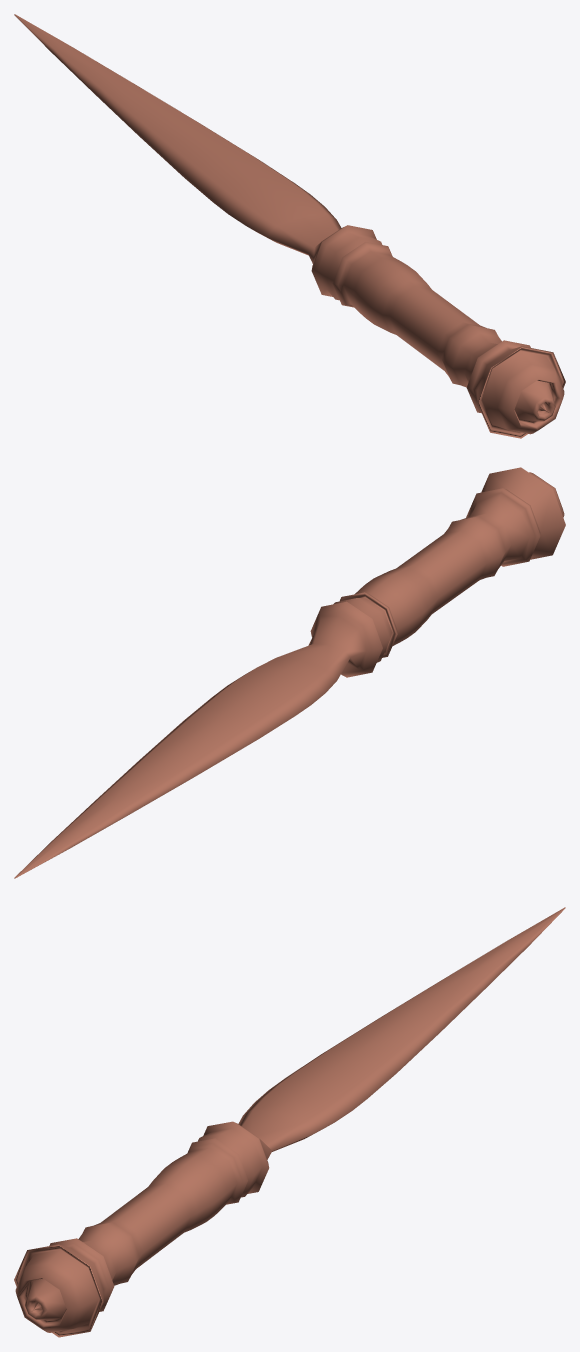
The model's file is bronze letter opener.fbx.
The picture shows the model from 3 angles, top to bottom: view 1: azimuth 30°, elevation 25°; view 2: azimuth 150°, elevation 25°; view 3: azimuth 330°, elevation 25°; orthographic projection.
Parts seen in each view (by area): view 1: bronze_knife; view 2: bronze_knife; view 3: bronze_knife.
Part boxes in pixels (bbox=[...]): bronze_knife: bbox=[14, 14, 565, 438]; bronze_knife: bbox=[14, 467, 565, 878]; bronze_knife: bbox=[14, 907, 565, 1337].
Bounding box in the file's own units: 1.87 × 1.87 × 19.45.
